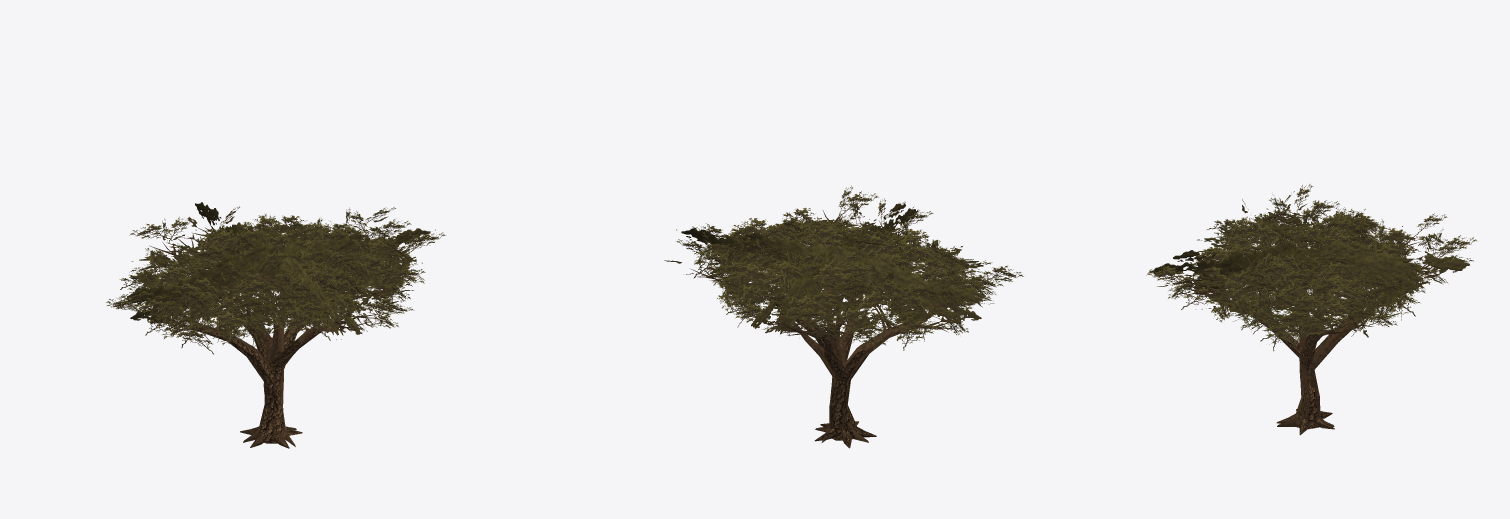
The model's file is Acacia_Savana.glb.
3 views of the same model, side by side, from view 1: azimuth 30°, elevation 25°; view 2: azimuth 150°, elevation 25°; view 3: azimuth 270°, elevation 25° (orthographic). The views are drawn at different scales.
Parts seen in each view (by area): view 1: Folhagem fina, Acacia_Savana impostor, Ramos principais, Tronco e raizes; view 2: Folhagem fina, Acacia_Savana impostor, Tronco e raizes, Ramos principais; view 3: Folhagem fina, Acacia_Savana impostor, Tronco e raizes, Ramos principais.
Part boxes in pixels (x1=…): Folhagem fina: x1=106, y1=206, x2=445, y2=354; Acacia_Savana impostor: x1=124, y1=202, x2=435, y2=446; Ramos principais: x1=198, y1=292, x2=338, y2=385; Tronco e raizes: x1=240, y1=361, x2=302, y2=448; Folhagem fina: x1=676, y1=185, x2=1023, y2=350; Acacia_Savana impostor: x1=664, y1=203, x2=1012, y2=442; Tronco e raizes: x1=814, y1=360, x2=876, y2=448; Ramos principais: x1=764, y1=291, x2=927, y2=382; Folhagem fina: x1=1146, y1=184, x2=1476, y2=351; Acacia_Savana impostor: x1=1149, y1=204, x2=1469, y2=426; Tronco e raizes: x1=1276, y1=358, x2=1334, y2=435; Ramos principais: x1=1254, y1=307, x2=1364, y2=365.
Size of what is drawn, in the model's own units: 12.43 by 12.43 by 12.43.
Materials: 3 (3 with a texture image).
